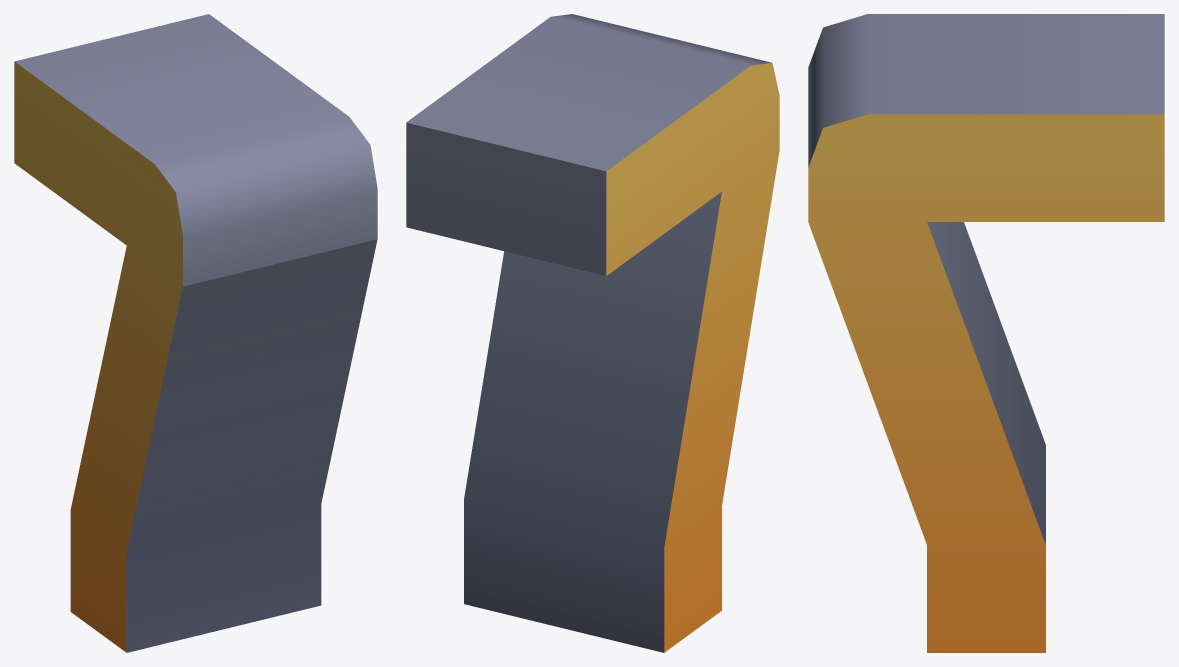
The model's file is kenney-prototype-number-7.glb.
The picture shows the model from 3 angles, left to right: view 1: azimuth 30°, elevation 25°; view 2: azimuth 150°, elevation 25°; view 3: azimuth 270°, elevation 25°; orthographic projection. The views are drawn at different scales.
Visible parts, largest first — view 1: number-7; view 2: number-7; view 3: number-7.
Boxes of the visible parts, x1,y1,x2,y2 form: number-7: (14, 14, 377, 652); number-7: (406, 14, 779, 652); number-7: (808, 14, 1164, 652).
Size of the model in its own units: 0.2 by 0.5 by 0.3.
1 material, 1 textured.
